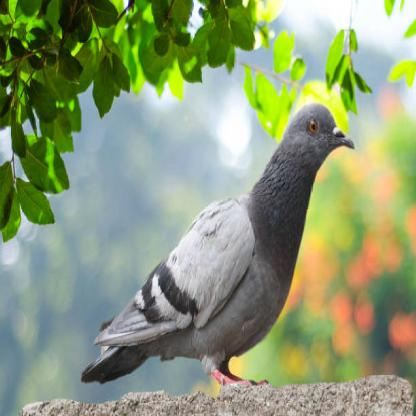Rock Pigeon: (81, 105, 357, 378)
